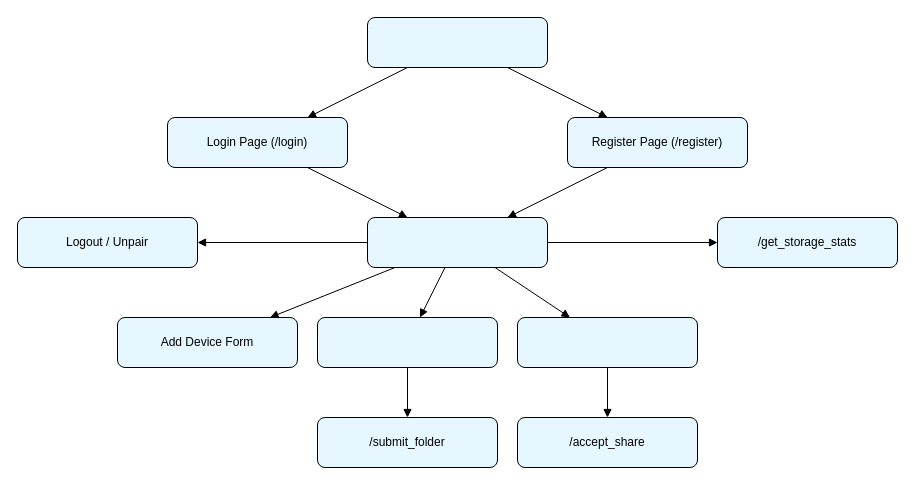
Some shapes in this 915 by 485 pixel diagram are drawn without their labels. The shapes that lost their labels are listed below. From the top down, each one's centre as x and y in pixels, then its label:
At pixel 457 42: "Pair Page (/pair)".
At pixel 457 242: "Dashboard (/dashboard)".
At pixel 407 342: "Add Folder Modal".
At pixel 607 342: "Folder Share Alerts".
